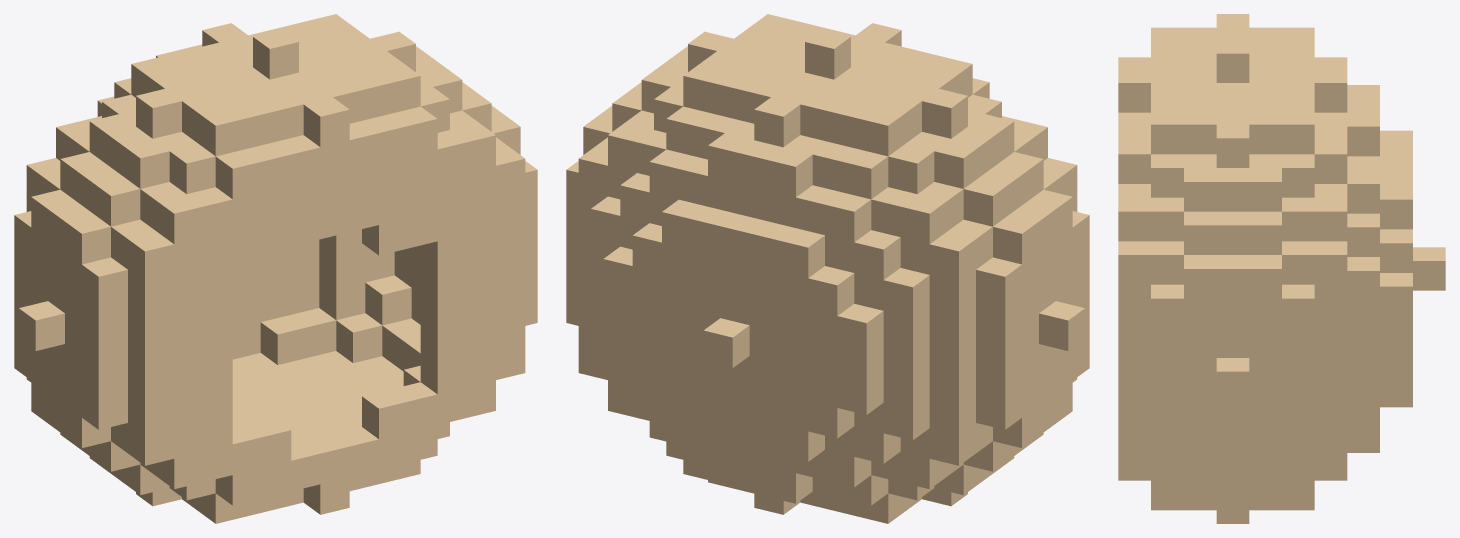
The model's file is alien-biosphere-shell-shelter-79433839__22788.glb.
The picture shows the model from 3 angles, left to right: view 1: azimuth 30°, elevation 25°; view 2: azimuth 150°, elevation 25°; view 3: azimuth 270°, elevation 25°; orthographic projection. The views are drawn at different scales.
Parts seen in each view (by area): view 1: shell-shelter; view 2: shell-shelter; view 3: shell-shelter.
Boxes of the visible parts, left/top/right/bottom form: shell-shelter: left=14, top=14, right=537, bottom=523; shell-shelter: left=566, top=14, right=1089, bottom=523; shell-shelter: left=1118, top=14, right=1445, bottom=523.
Bounding box in the file's own units: 3.06 × 2.7 × 1.8.
